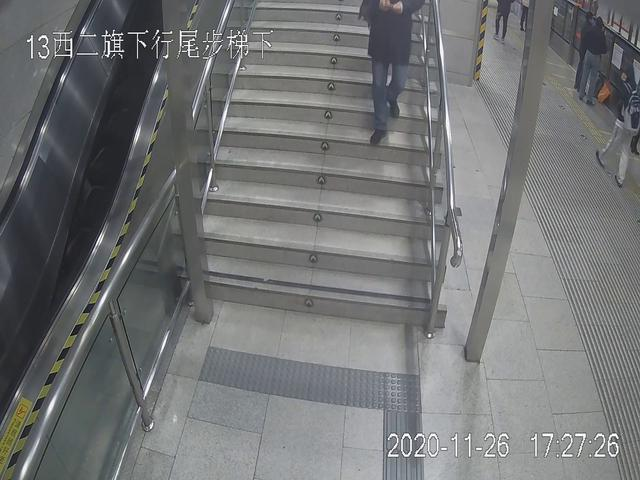person: (358, 1, 423, 146), (598, 65, 640, 190), (579, 1, 612, 108)
